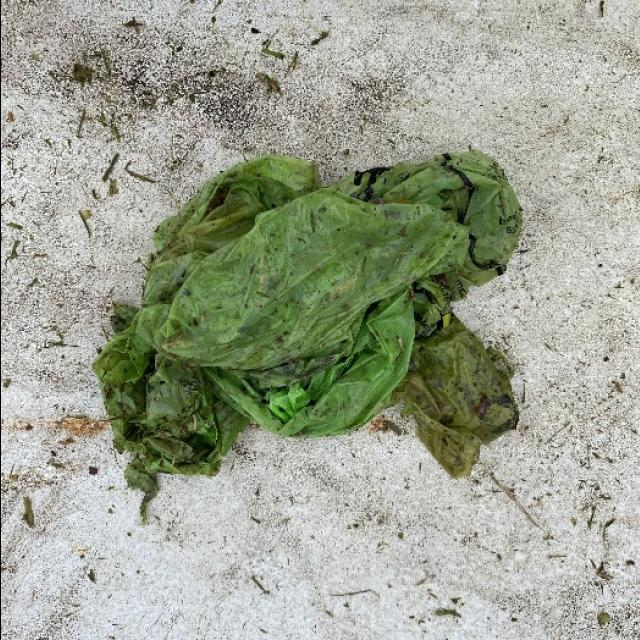organik: (103, 147, 533, 487)
